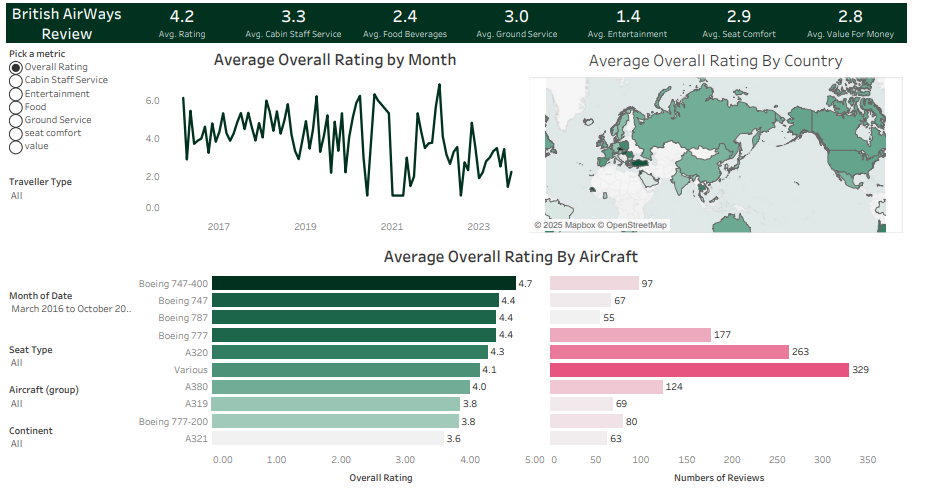

Layout of this report page (visuals, bound fields, positions):
{"tool":"tableau","page":{"name":"Dashboard 1","canvas":[1000,1000],"units":"permille","ordinal":0},"visuals":[{"type":"text","box":[0,0,135.4,80.7]},{"type":"worksheet","title":"Summary","mark":"Automatic","box":[134.6,0,865.4,80.7]},{"type":"parameter","param":"[Parameters].[Parameter 1]","box":[0,80.7,144,261.1]},{"type":"worksheet","title":"Month","mark":"Automatic","rows":["Calculation_493144209035927552"],"cols":["date"],"box":[150.8,80.7,429.3,395.6]},{"type":"worksheet","title":"Map","mark":"Automatic","box":[580.1,83.9,415.7,384.5]},{"type":"filter","title":"Map","param":"[federated.1t2r0xa1cq31mn1973bu700l6y7p].[none:traveller_type:nk]","box":[0,341.8,144,231]},{"type":"worksheet","title":"AirCraft","mark":"Automatic","cols":["Calculation_493144209035927552","ba_reviews.csv_52AB7883F0F74F018D51C8B9CE8AE805"],"box":[142.2,482.6,837.3,506.3]},{"type":"filter","title":"Map","param":"[federated.1t2r0xa1cq31mn1973bu700l6y7p].[tmn:date:qk]","box":[0,572.8,144,109.2]},{"type":"filter","title":"Map","param":"[federated.1t2r0xa1cq31mn1973bu700l6y7p].[none:seat_type:nk]","box":[0,682,144,82.3]},{"type":"filter","title":"Map","param":"[federated.1t2r0xa1cq31mn1973bu700l6y7p].[Aircraft (group)]","box":[0,764.2,144,82.3]},{"type":"filter","title":"Map","param":"[federated.1t2r0xa1cq31mn1973bu700l6y7p].[none:Continent:nk]","box":[0,846.5,144,82.3]}]}

Visuals, with their boxes on the dashboard's canvas, which has no fixed pixel size, in thousandths of its width and height (x1, y1, x2, y2). These are canvas units, not pixel positions in the 925x491 screenshot, which may show the page scaled, cropped or inside an application window:
text: bbox=(0, 0, 135, 81)
"Summary" worksheet: bbox=(135, 0, 1000, 81)
parameter: bbox=(0, 81, 144, 342)
"Month" worksheet: bbox=(151, 81, 580, 476)
"Map" worksheet: bbox=(580, 84, 996, 468)
"Map" filter: bbox=(0, 342, 144, 573)
"AirCraft" worksheet: bbox=(142, 483, 980, 989)
"Map" filter: bbox=(0, 573, 144, 682)
"Map" filter: bbox=(0, 682, 144, 764)
"Map" filter: bbox=(0, 764, 144, 846)
"Map" filter: bbox=(0, 846, 144, 929)
